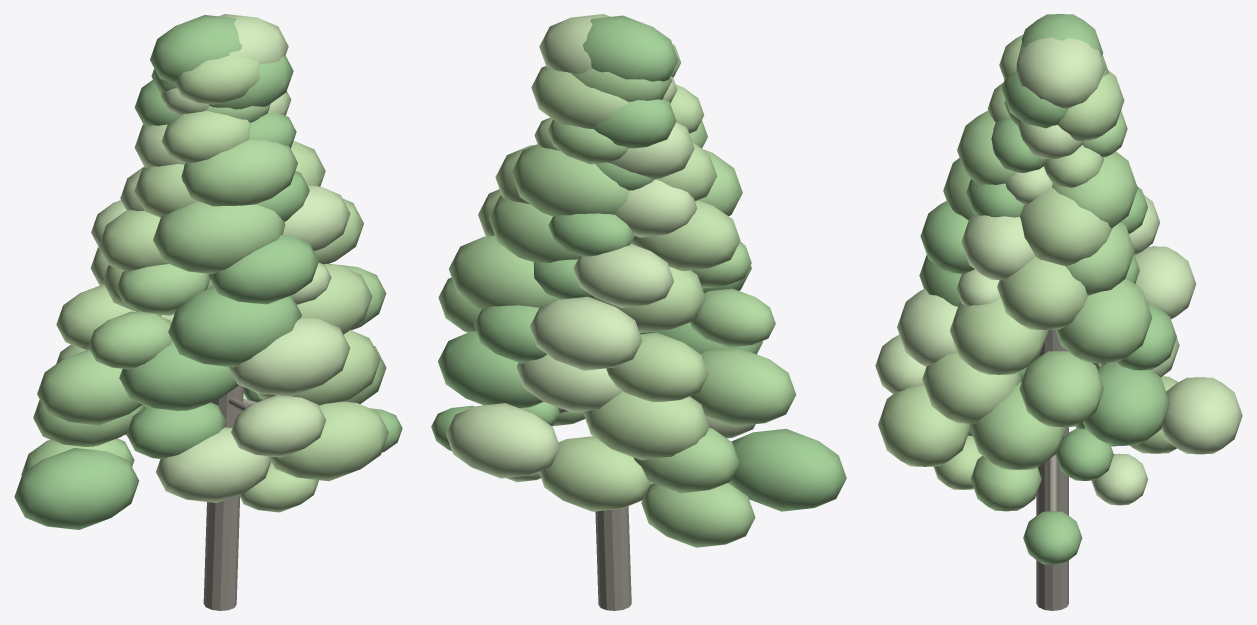
The model's file is district_pine.glb.
3 views of the same model, side by side, from view 1: azimuth 30°, elevation 25°; view 2: azimuth 150°, elevation 25°; view 3: azimuth 270°, elevation 25° (orthographic).
Visible parts, largest first — view 1: leaf0, leaf2, leaf1, leaf3, timber; view 2: leaf1, leaf2, leaf0, leaf3, timber; view 3: leaf2, leaf3, leaf1, leaf0, timber.
Boxes of the visible parts, x1,y1,x2,y2 form: leaf0: [14, 15, 402, 529]; leaf2: [56, 55, 388, 512]; leaf1: [21, 68, 386, 475]; leaf3: [90, 14, 350, 502]; timber: [203, 385, 256, 610]; leaf1: [438, 69, 796, 547]; leaf2: [478, 44, 740, 511]; leaf0: [431, 15, 846, 511]; leaf3: [446, 14, 755, 482]; timber: [558, 407, 631, 610]; leaf2: [878, 34, 1178, 489]; leaf3: [875, 37, 1242, 505]; leaf1: [943, 54, 1152, 511]; leaf0: [919, 14, 1176, 564]; timber: [1036, 329, 1068, 610].
Size of the model in its own units: 5.98 by 8.59 by 4.94.
